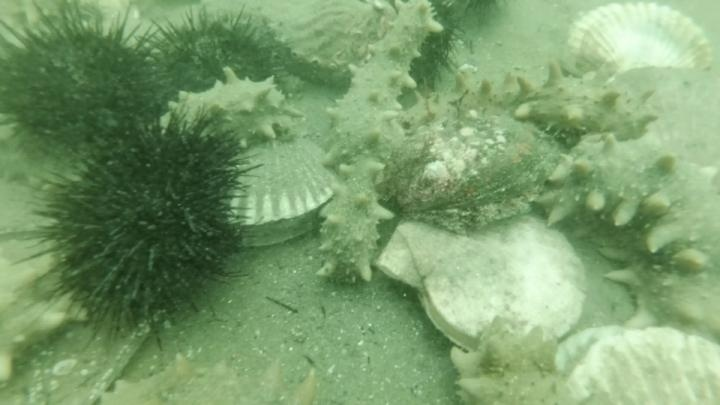echinus: (21, 106, 264, 347), (1, 5, 169, 175), (140, 5, 282, 103), (155, 67, 302, 153), (259, 13, 355, 91), (410, 2, 466, 93), (432, 1, 510, 33)
holothurian: (310, 4, 438, 291), (531, 137, 720, 330), (508, 59, 662, 147), (104, 345, 327, 404), (158, 69, 304, 154), (1, 243, 87, 386), (445, 321, 577, 404), (261, 14, 355, 91), (1, 127, 75, 189)
scallop: (374, 211, 592, 358), (219, 137, 341, 253), (549, 323, 720, 405), (104, 345, 331, 405), (563, 1, 715, 81), (374, 219, 466, 296)
